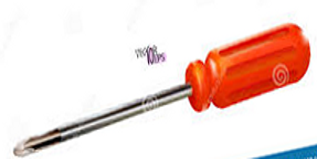Screwdriver: (14, 18, 317, 144)
